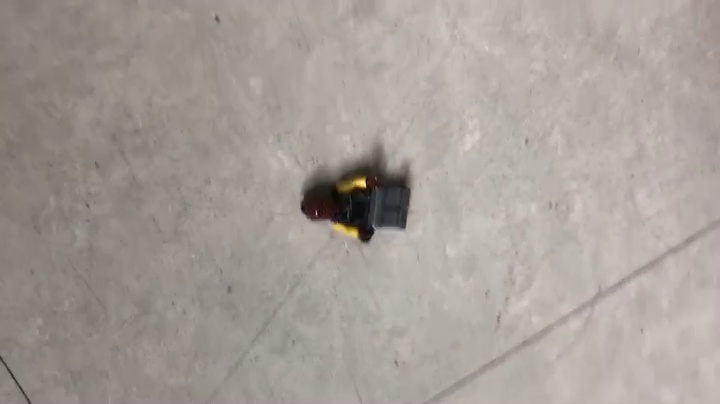people: (298, 168, 414, 245)
